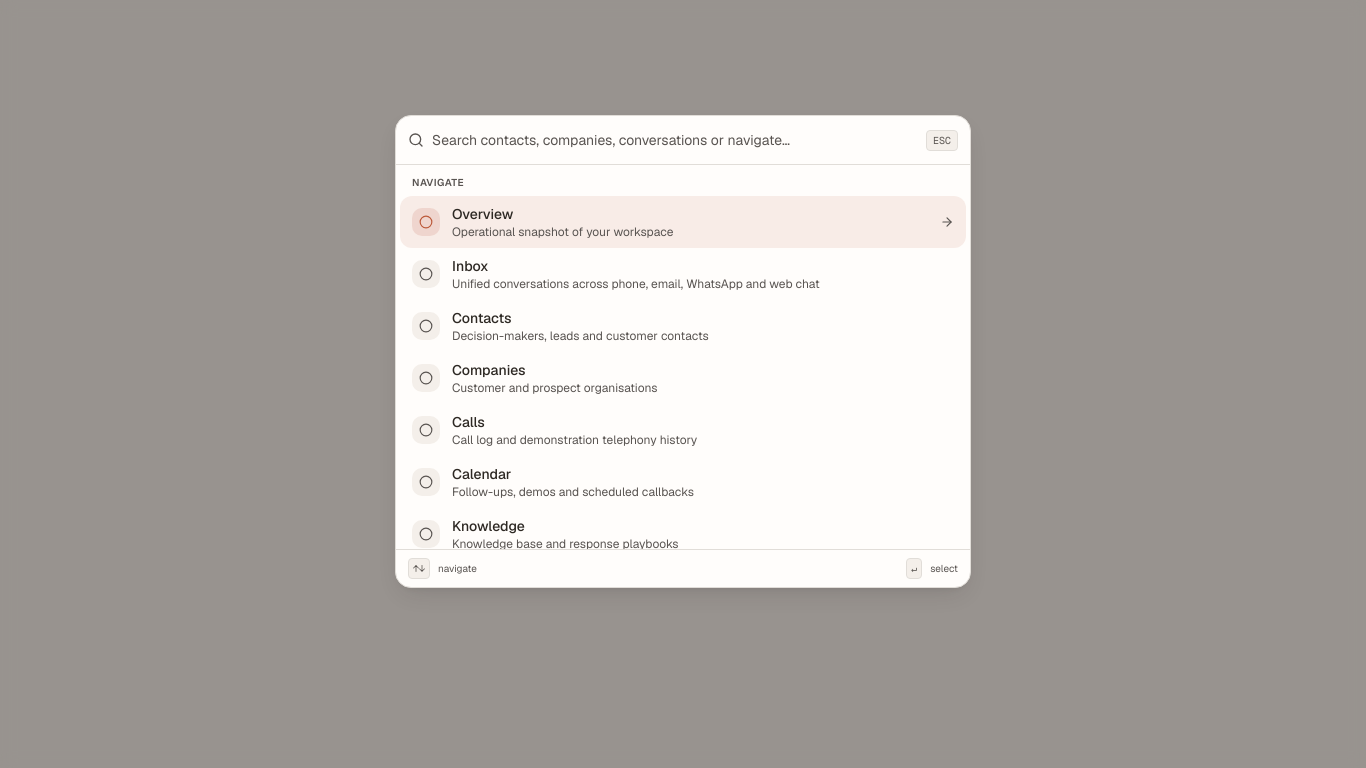
it: CommandPalette › shows a no-results message for an unmatched query
In the field named "Command palette search": (675, 140) [432,116,918,164], type "zzzzznomatch"
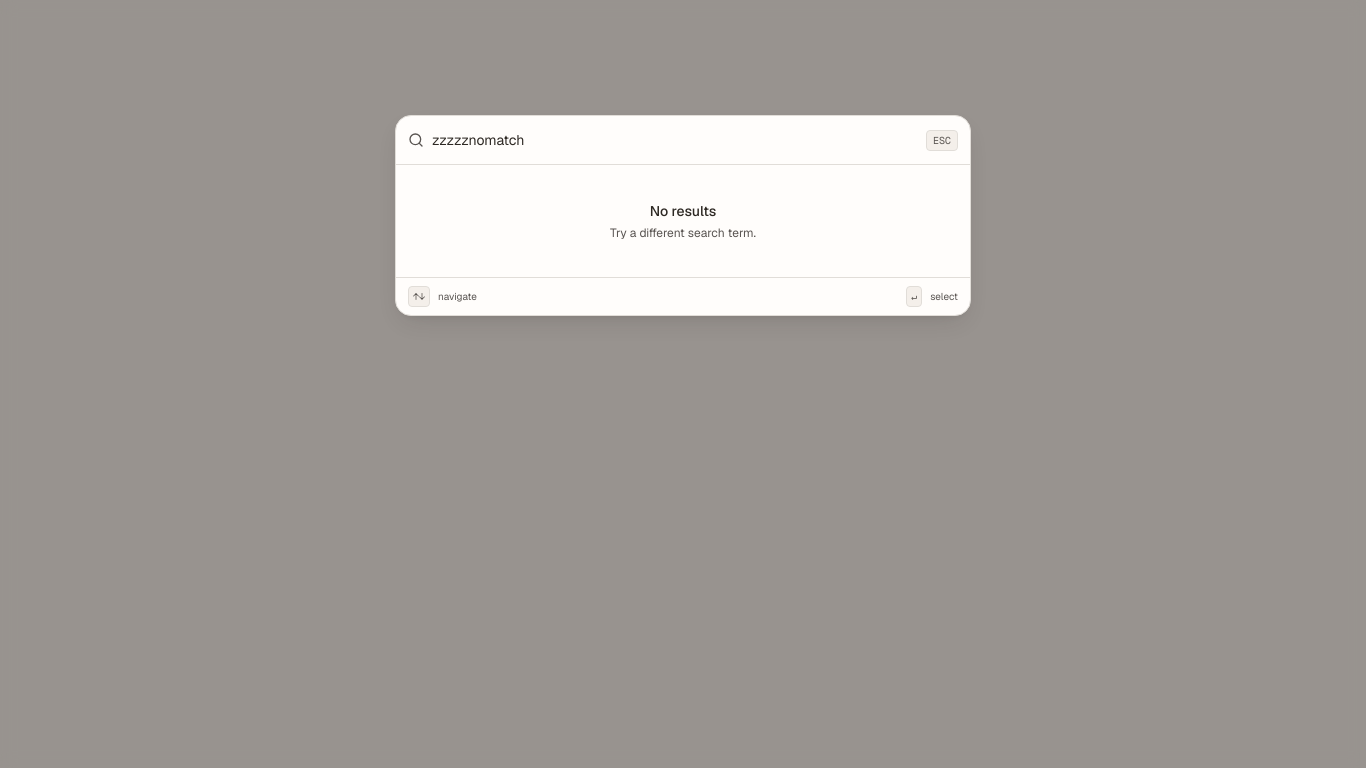
Expected: the text "No results" is shown, [650,202,716,220]
